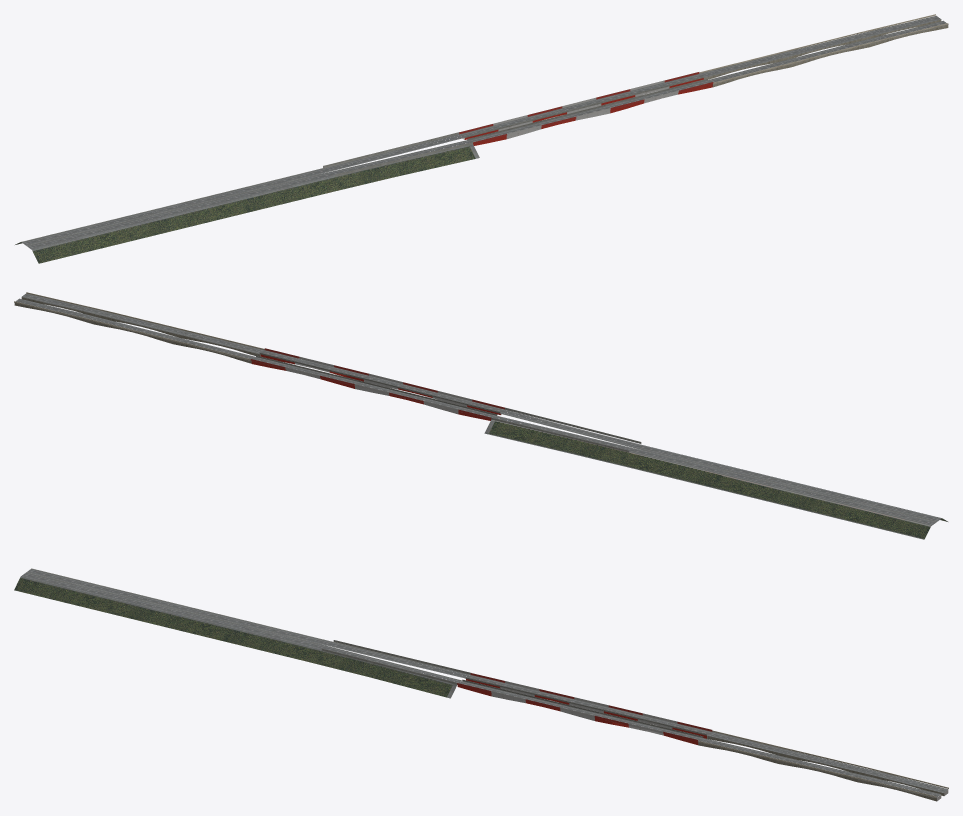
3 views of the same model, one above another, from view 1: azimuth 30°, elevation 25°; view 2: azimuth 150°, elevation 25°; view 3: azimuth 330°, elevation 25° (orthographic).
Parts seen in each view (by area): view 1: 立方体, 立方体.024, 立方体.025, 立方体.004, 立方体.001, 立方体.006, 立方体.016, 立方体.020, 立方体.008; view 2: 立方体, 立方体.025, 立方体.024, 立方体.001, 立方体.004, 立方体.016, 立方体.008, 立方体.020, 立方体.006; view 3: 立方体, 立方体.024, 立方体.025, 立方体.004, 立方体.001, 立方体.006, 立方体.016, 立方体.020, 立方体.008.
Boxes of the visible parts, x1,y1,x2,y2 form: 立方体: (15,134,479,263); 立方体.024: (699,15,941,77); 立方体.025: (708,20,948,82); 立方体.004: (460,74,702,137); 立方体.001: (468,80,710,142); 立方体.006: (473,84,712,145); 立方体.016: (712,25,948,87); 立方体.020: (704,20,941,79); 立方体.008: (462,78,703,139); 立方体: (484,409,947,539); 立方体.025: (22,293,264,353); 立方体.024: (15,298,255,360); 立方体.001: (261,350,504,412); 立方体.004: (253,357,496,419); 立方体.016: (21,297,260,356); 立方体.008: (251,361,490,420); 立方体.020: (14,303,251,363); 立方体.006: (260,354,501,414); 立方体: (14,568,470,698); 立方体.024: (707,732,948,792); 立方体.025: (700,738,940,797); 立方体.004: (468,675,711,735); 立方体.001: (460,681,702,740); 立方体.006: (457,685,698,744); 立方体.016: (698,742,941,801); 立方体.020: (707,736,948,795); 立方体.008: (466,679,707,738).
Bounding box in the file's own units: 47.05 × 0.5994 × 2.47.
Materials: 2 (2 with a texture image).
